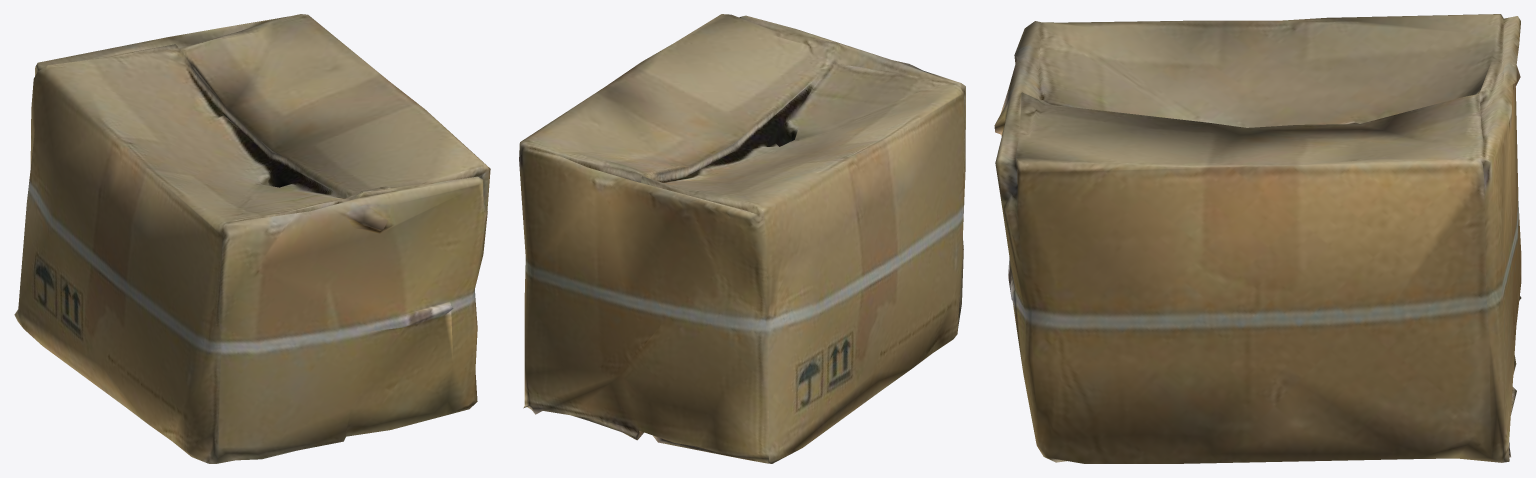
The model's file is cardboard.glb.
3 renders of one model, left to right at view 1: azimuth 30°, elevation 25°; view 2: azimuth 150°, elevation 25°; view 3: azimuth 270°, elevation 25°, orthographic. The views are drawn at different scales.
Parts seen in each view (by area): view 1: cardboard_box_01; view 2: cardboard_box_01; view 3: cardboard_box_01.
Boxes of the visible parts, x1,y1,x2,y2 form: cardboard_box_01: (14,14,490,463); cardboard_box_01: (519,14,965,463); cardboard_box_01: (994,14,1521,463).
Bounding box in the file's own units: 0.3833 × 0.3403 × 0.5159.
Materials: 1 (1 with a texture image).
